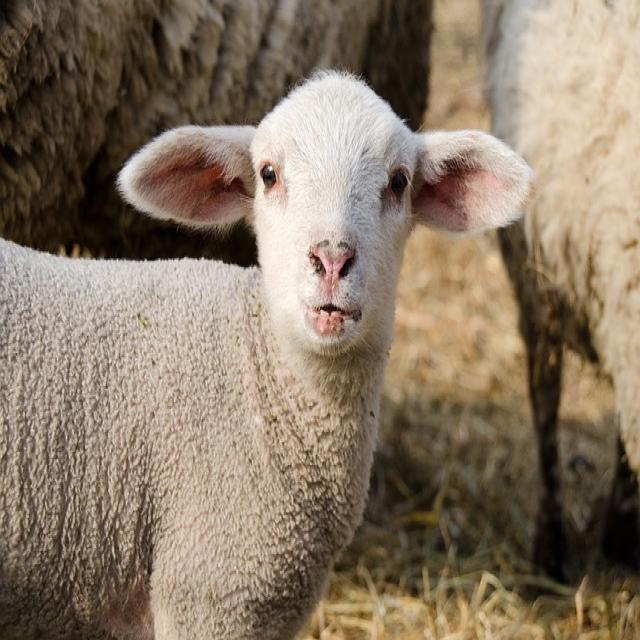goat: (0, 70, 532, 640)
